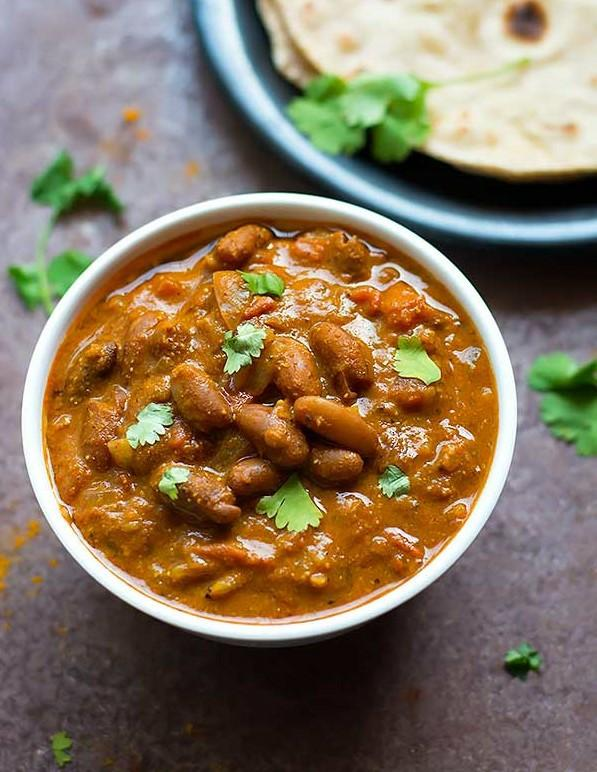RajmaCurry: (41, 216, 495, 623)
